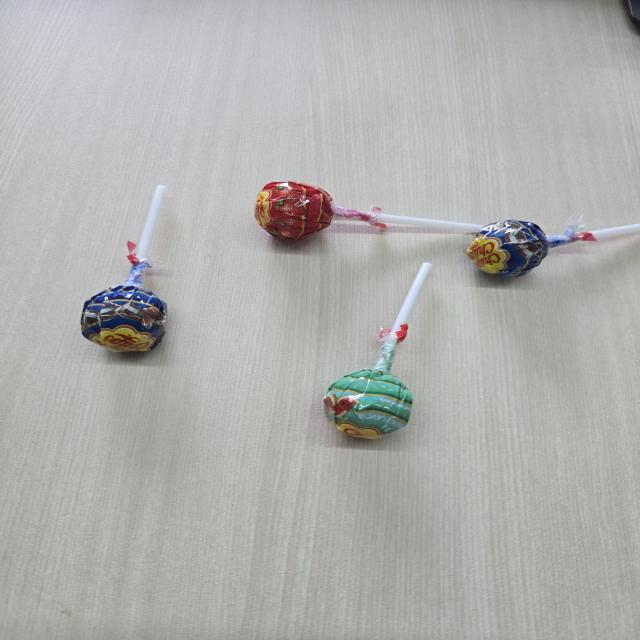lollipop: (319, 256, 445, 444), (77, 181, 178, 362), (253, 173, 485, 249), (467, 217, 636, 284)
